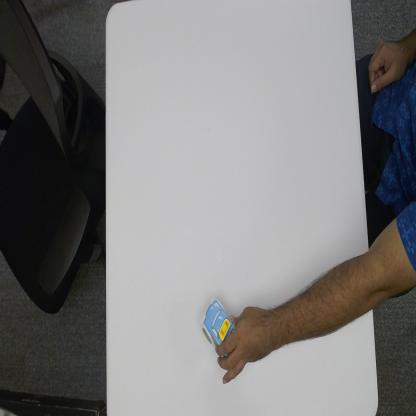Arm: (274, 246, 370, 348)
Car: (201, 297, 237, 354)
Hand: (214, 306, 273, 386)
